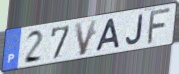2: (21, 30, 46, 66)
7: (49, 24, 72, 61)
A: (94, 17, 121, 53)
F: (146, 6, 174, 46)
J: (125, 13, 145, 46)
V: (73, 18, 99, 57)
